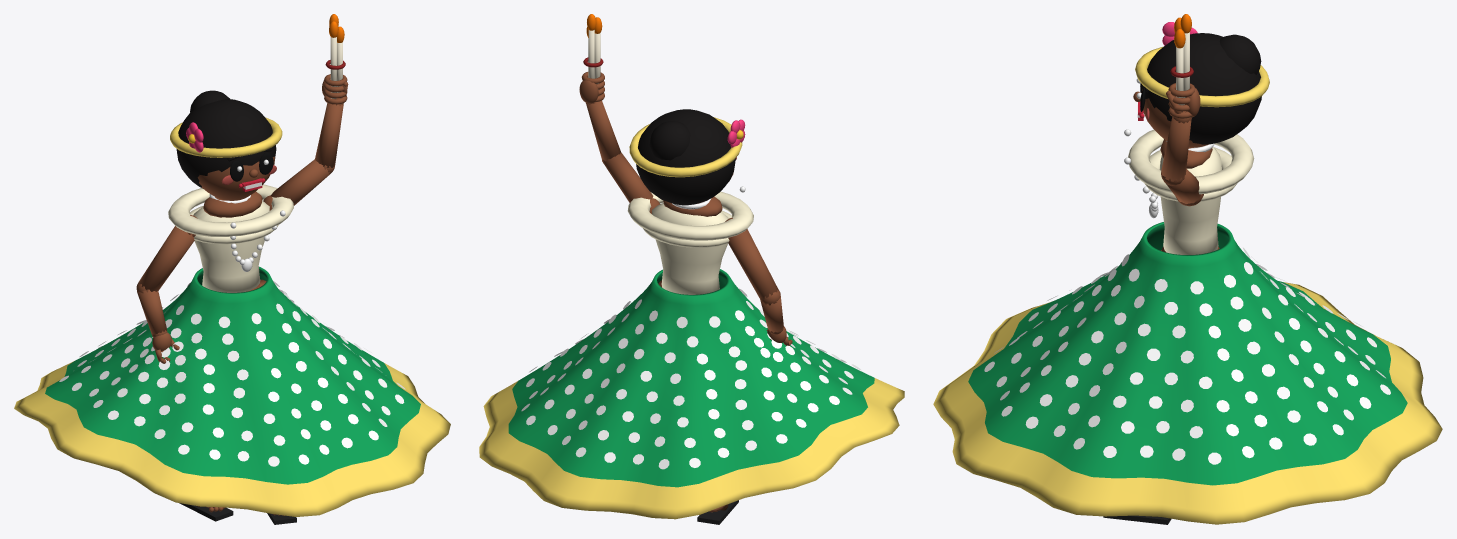
File: bailarina-vestido-verde-puntos-blancos.glb
3 views of the same model, side by side, from view 1: azimuth 30°, elevation 25°; view 2: azimuth 150°, elevation 25°; view 3: azimuth 270°, elevation 25° (orthographic). The views are drawn at different scales.
Visible parts, largest first — view 1: Pollera, Lunares, Cabello, Torso_Blusa, Bolero_Alto, Brazo_Izq_Sup, Cinta_Cabeza, Cabeza, Brazo_Der_Inf, Brazo_Der_Sup, Escote, Brazo_Izq_Inf (+1 smaller); view 2: Pollera, Lunares, Cabello, Torso_Blusa, Bolero_Alto, Brazo_Izq_Sup, Cinta_Cabeza, Mono, Brazo_Der_Sup, Brazo_Der_Inf, Bolero_Bajo, Brazo_Izq_Inf (+1 smaller); view 3: Pollera, Lunares, Cabello, Torso_Blusa, Bolero_Alto, Cinta_Cabeza, Brazo_Der_Inf, Mono, Bolero_Bajo, Cabeza, Brazo_Der_Sup.
Part boxes in pixels (bbox=[...]): Pollera: bbox=[14, 266, 450, 516]; Lunares: bbox=[59, 281, 405, 466]; Cabello: bbox=[176, 99, 276, 188]; Torso_Blusa: bbox=[193, 201, 269, 292]; Bolero_Alto: bbox=[168, 184, 293, 236]; Brazo_Izq_Sup: bbox=[139, 226, 194, 291]; Cinta_Cabeza: bbox=[170, 117, 282, 157]; Cabeza: bbox=[197, 156, 275, 200]; Brazo_Der_Inf: bbox=[315, 103, 343, 167]; Brazo_Der_Sup: bbox=[270, 159, 330, 205]; Escote: bbox=[203, 191, 262, 217]; Brazo_Izq_Inf: bbox=[137, 289, 166, 334]; Pollera: bbox=[479, 269, 904, 519]; Lunares: bbox=[521, 288, 861, 469]; Cabello: bbox=[636, 109, 735, 205]; Torso_Blusa: bbox=[652, 203, 728, 294]; Bolero_Alto: bbox=[627, 191, 753, 240]; Brazo_Izq_Sup: bbox=[728, 229, 778, 300]; Cinta_Cabeza: bbox=[629, 117, 742, 177]; Mono: bbox=[649, 121, 690, 160]; Brazo_Der_Sup: bbox=[603, 152, 653, 202]; Brazo_Der_Inf: bbox=[586, 100, 621, 161]; Bolero_Bajo: bbox=[643, 210, 731, 247]; Brazo_Izq_Inf: bbox=[760, 296, 783, 332]; Pollera: bbox=[933, 222, 1442, 524]; Lunares: bbox=[984, 247, 1390, 464]; Cabello: bbox=[1142, 33, 1261, 144]; Torso_Blusa: bbox=[1159, 147, 1221, 254]; Bolero_Alto: bbox=[1128, 129, 1254, 194]; Cinta_Cabeza: bbox=[1135, 46, 1269, 107]; Brazo_Der_Inf: bbox=[1161, 117, 1191, 181]; Mono: bbox=[1219, 34, 1261, 74]; Bolero_Bajo: bbox=[1144, 147, 1237, 201]; Cabeza: bbox=[1141, 89, 1208, 147]; Brazo_Der_Sup: bbox=[1165, 169, 1200, 203].
Size of the model in its own units: 1.75 by 2.07 by 1.75.
